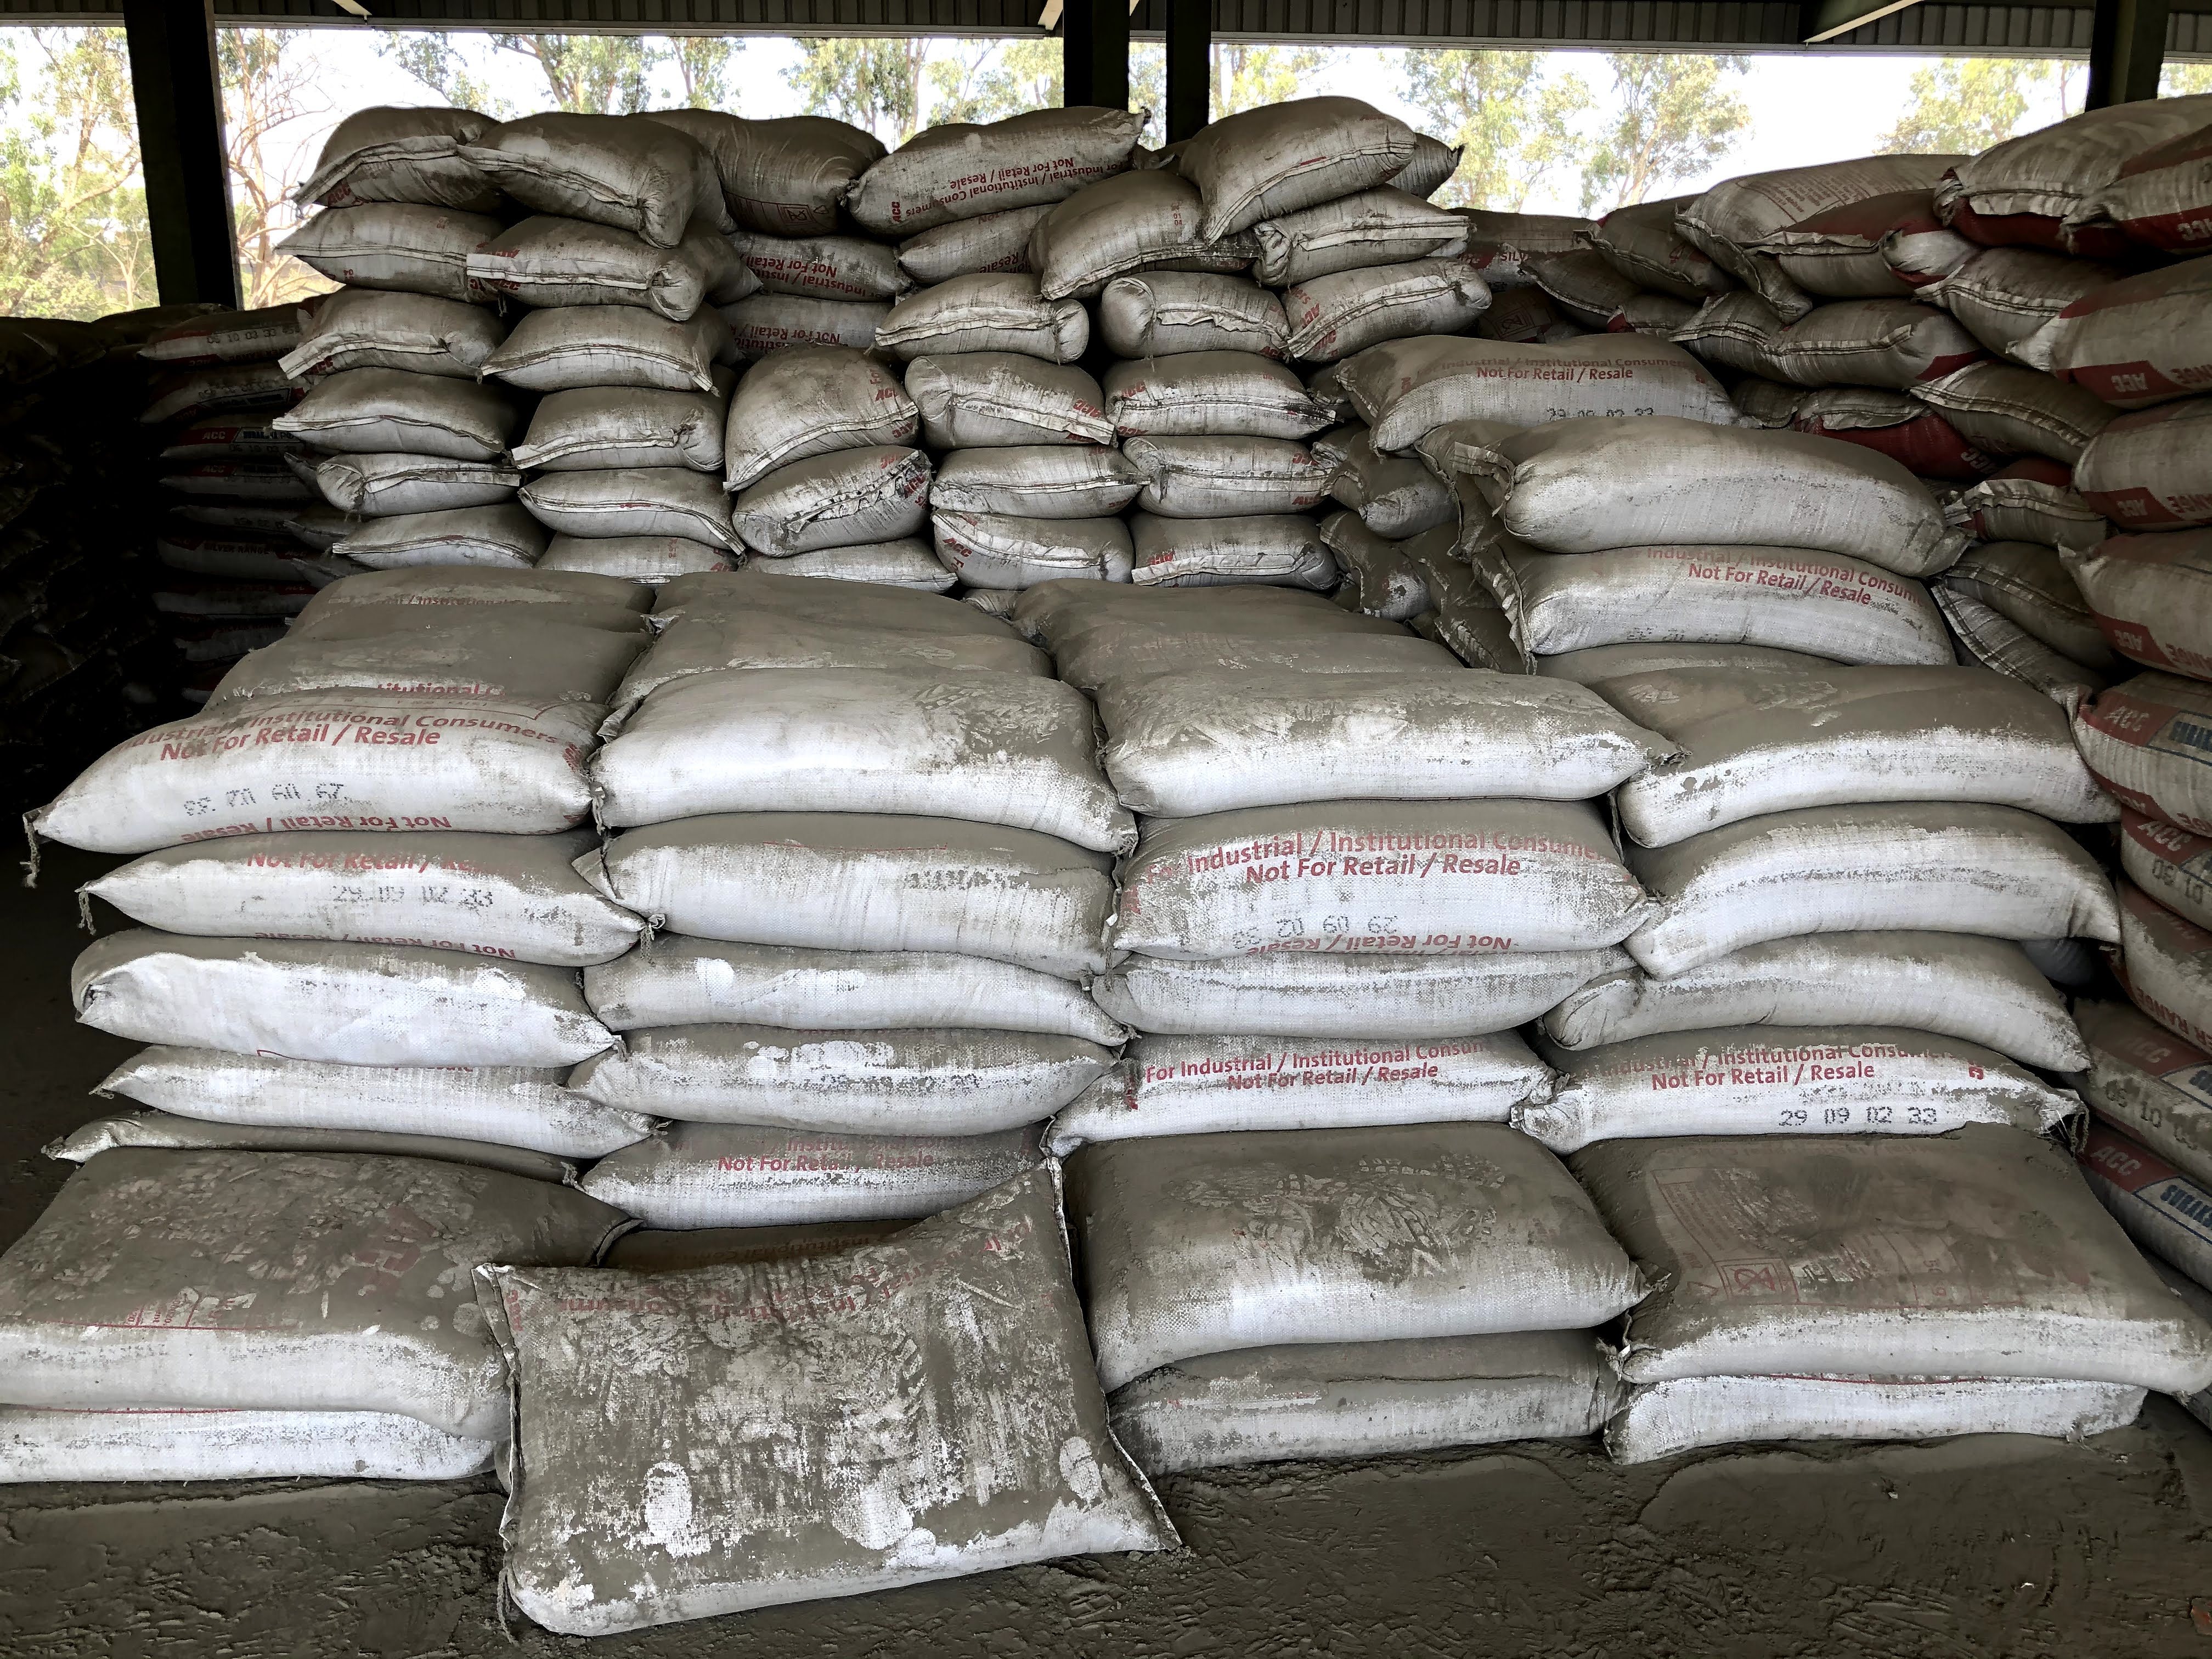cement bag: (474, 1157, 1186, 1640), (1561, 1129, 2203, 1396), (0, 1140, 643, 1401), (1061, 1126, 1648, 1382), (582, 655, 1139, 852), (575, 809, 1137, 983), (1575, 660, 2120, 836), (26, 695, 606, 850), (1092, 796, 1649, 955), (56, 925, 631, 1079), (1453, 410, 1968, 580), (1622, 802, 2128, 971), (1087, 666, 1674, 805), (71, 830, 655, 969), (1550, 951, 2107, 1080), (568, 931, 1151, 1053), (552, 1018, 1125, 1136), (87, 1039, 664, 1155), (1096, 1335, 1635, 1452), (1480, 542, 1963, 671), (1073, 939, 1635, 1037), (1505, 1040, 2074, 1136), (1015, 1035, 1571, 1131), (1329, 326, 1743, 446), (1606, 1364, 2146, 1446), (556, 1127, 1066, 1211), (0, 1408, 502, 1486), (1158, 92, 1421, 234), (465, 113, 693, 247), (462, 204, 707, 324), (843, 106, 1148, 202), (723, 336, 916, 479), (275, 202, 514, 310), (1087, 350, 1338, 446), (1021, 183, 1254, 286), (721, 443, 935, 551), (899, 349, 1113, 455), (303, 99, 500, 214), (273, 286, 500, 383), (871, 268, 1082, 369), (909, 437, 1158, 519), (1270, 261, 1494, 352), (491, 305, 719, 394), (268, 371, 505, 457), (1242, 183, 1477, 268), (921, 500, 1134, 594), (1118, 427, 1338, 518), (514, 465, 745, 551), (507, 385, 728, 474), (1096, 270, 1299, 354), (1125, 518, 1345, 586), (317, 504, 545, 568), (310, 450, 528, 514), (536, 532, 737, 587)
